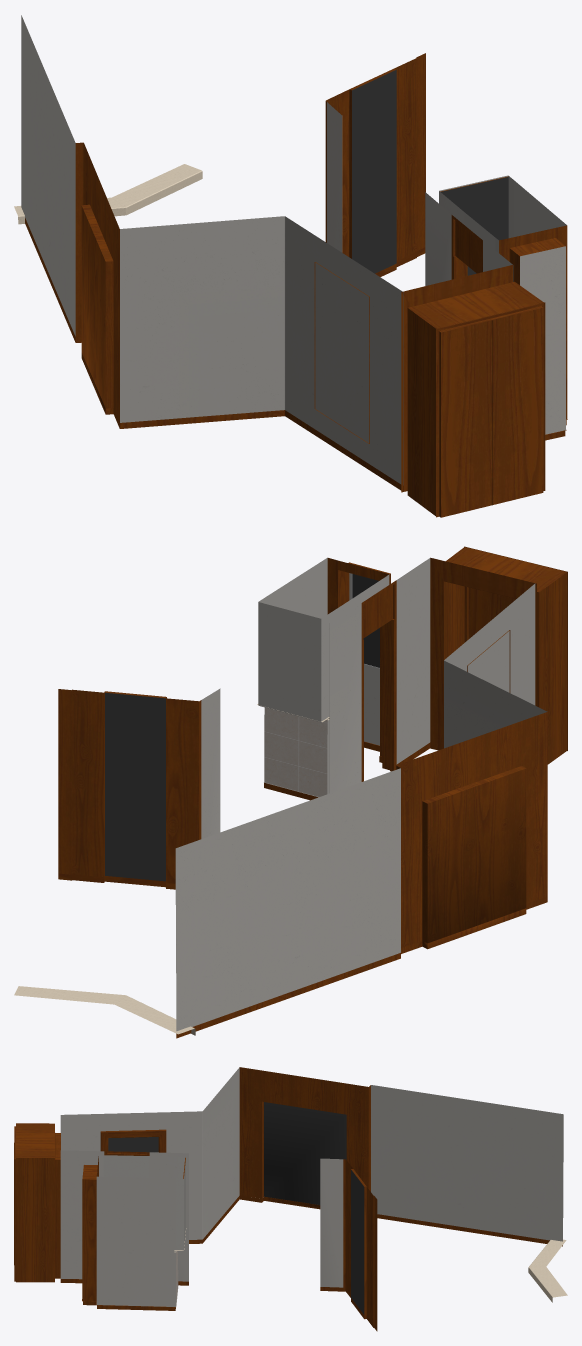
File: LivingRoom.fbx
The picture shows the model from 3 angles, top to bottom: view 1: azimuth 30°, elevation 25°; view 2: azimuth 150°, elevation 25°; view 3: azimuth 270°, elevation 25°; orthographic projection. The views are drawn at different scales.
Parts seen in each view (by area): view 1: polySurface3, polySurface1; view 2: polySurface3, polySurface1; view 3: polySurface3, polySurface1.
Boxes of the visible parts, x1=… form: polySurface3: x1=14, y1=15, x2=567, y2=517; polySurface1: x1=120, y1=216, x2=284, y2=428; polySurface3: x1=14, y1=546, x2=567, y2=1038; polySurface1: x1=444, y1=660, x2=547, y2=748; polySurface3: x1=14, y1=1067, x2=567, y2=1331; polySurface1: x1=202, y1=1067, x2=239, y2=1243.
Size of the model in its own units: 583 by 273 by 1031.
